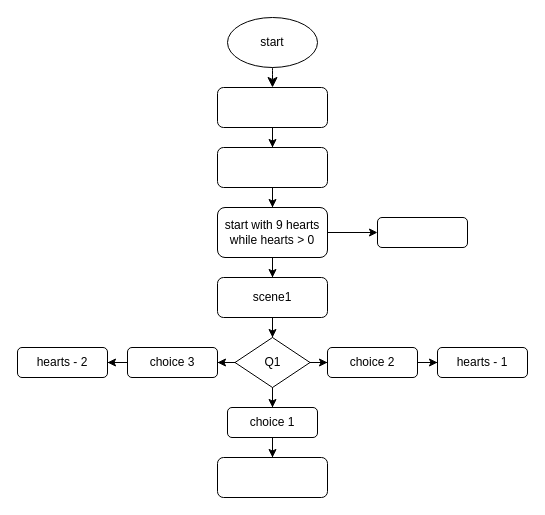
This 545x515 diagram has some shape labels left out. Each missing label, with the centre of its shape:
ask for name: point (272, 167)
end - you died: point (422, 232)
instructions: point (272, 107)
next scene: point (272, 477)
